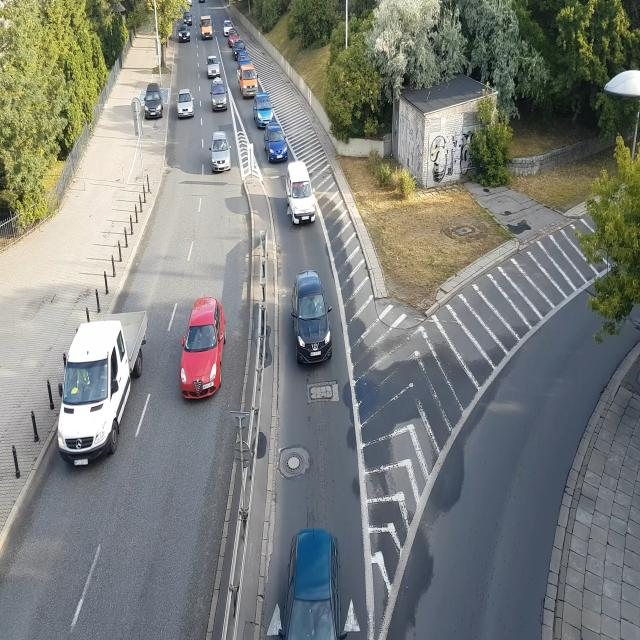car: (57, 316, 136, 466), (281, 530, 351, 640), (178, 298, 227, 400), (294, 271, 334, 364), (286, 163, 317, 225), (264, 122, 289, 162), (211, 132, 232, 174), (252, 91, 273, 129), (142, 88, 164, 120), (212, 82, 230, 112), (240, 69, 258, 98), (177, 91, 196, 118), (181, 10, 197, 30), (207, 56, 220, 78), (230, 40, 245, 59), (200, 19, 213, 39), (179, 24, 192, 41), (221, 18, 232, 36), (227, 30, 238, 46)
